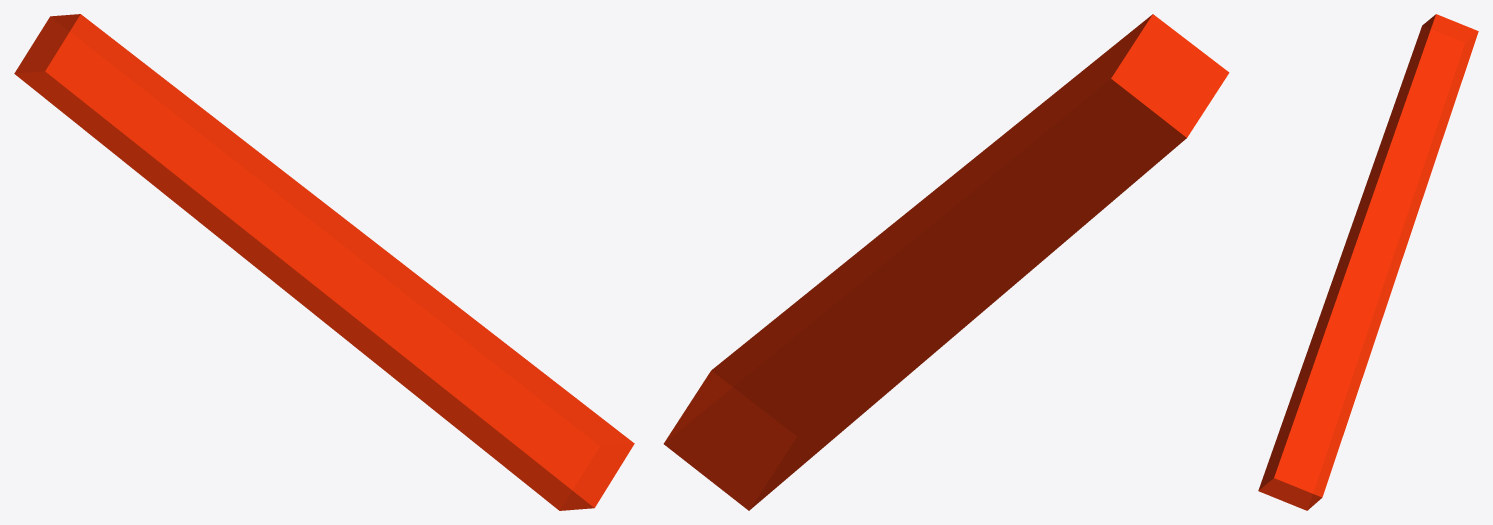
File: Event_421556567_EBrechit_22.fbx
3 views of the same model, side by side, from view 1: azimuth 30°, elevation 25°; view 2: azimuth 150°, elevation 25°; view 3: azimuth 270°, elevation 25° (orthographic). The views are drawn at different scales.
Parts seen in each view (by area): view 1: Model; view 2: Model; view 3: Model.
Part boxes in pixels (x1=…): Model: x1=14, y1=14, x2=634, y2=510; Model: x1=663, y1=14, x2=1229, y2=510; Model: x1=1258, y1=14, x2=1478, y2=510.
Size of the model in its own units: 0.462 by 0.4781 by 0.2616.
